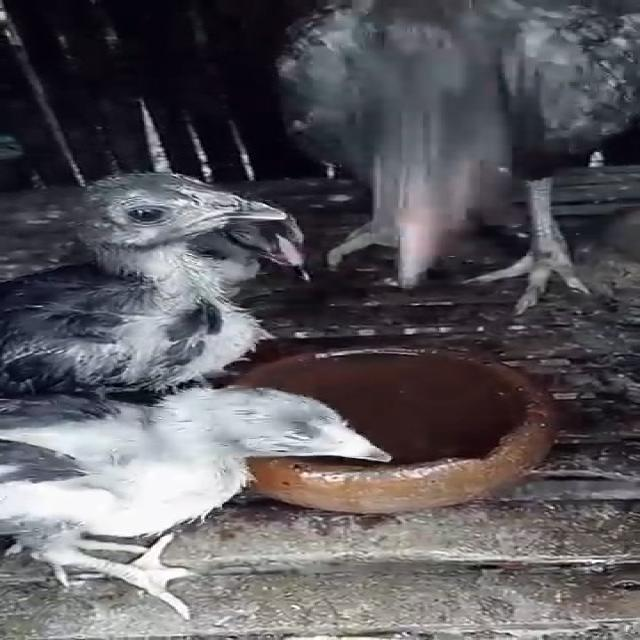drinking: (0, 378, 412, 640)
